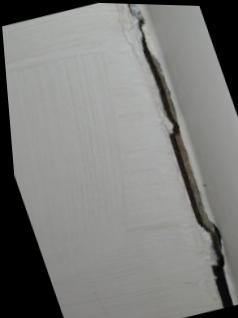damage: (127, 3, 228, 307)
